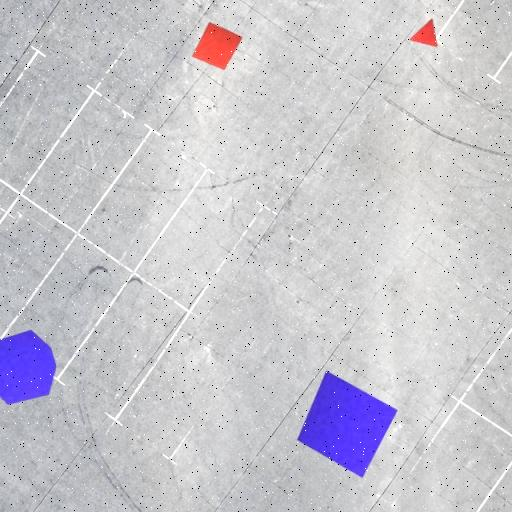BLUE_SQUARE: (296, 370, 398, 478)
RED_SQUARE: (192, 22, 243, 70)
